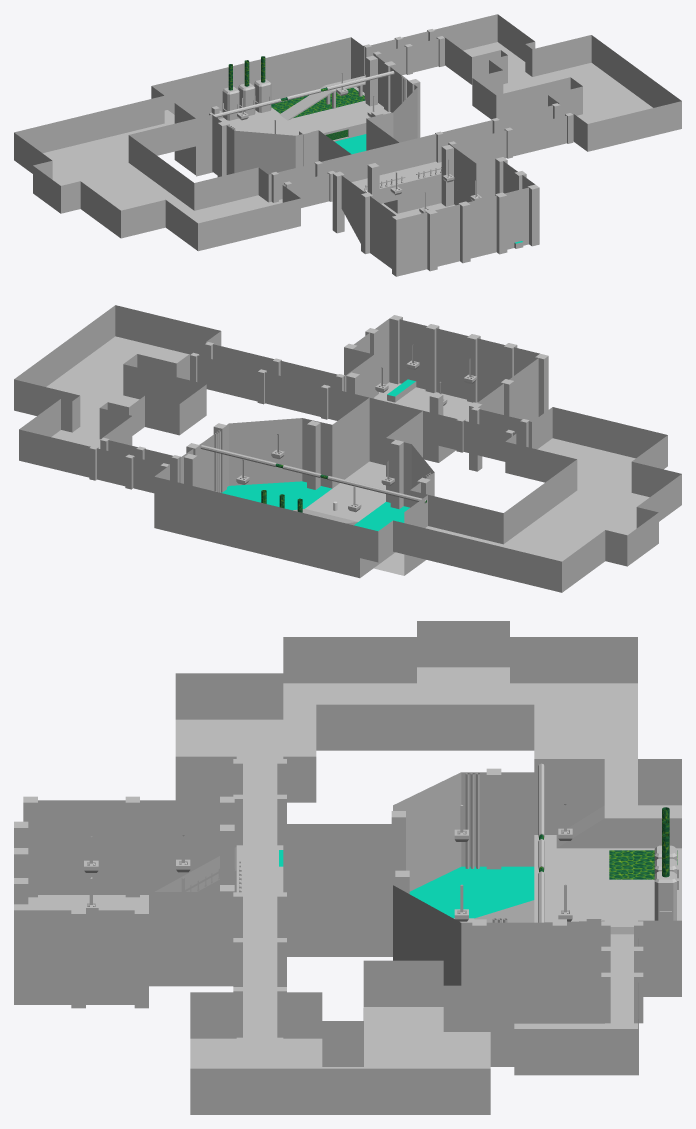
Rendered from SHINO_NUMA3333 (1).fbx.
3 views of the same model, one above another, from view 1: azimuth 30°, elevation 25°; view 2: azimuth 150°, elevation 25°; view 3: azimuth 270°, elevation 25° (orthographic). The views are drawn at different scales.
Visible parts, largest first — view 1: Cube, Cube.004, Plane; view 2: Cube, Plane; view 3: Cube, Plane, Cube.004.
Part boxes in pixels (box(x1,y1,x2,y2)): Cube: box(14, 14, 681, 276); Cube.004: box(222, 79, 271, 120); Plane: box(237, 73, 482, 213); Cube: box(14, 305, 681, 592); Plane: box(236, 344, 476, 512); Cube: box(14, 621, 681, 1114); Plane: box(84, 804, 572, 921); Cube.004: box(654, 845, 676, 920).
Size of the model in its own units: 3940 by 542 by 2485.
